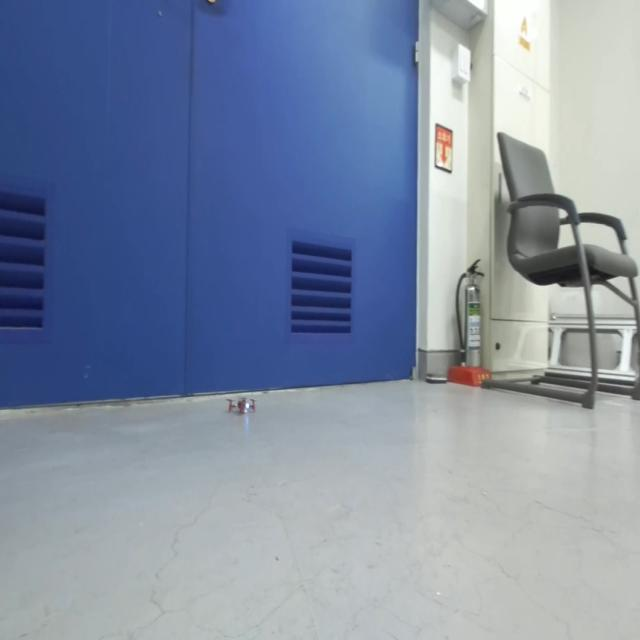crazyflie: (226, 393, 257, 420)
